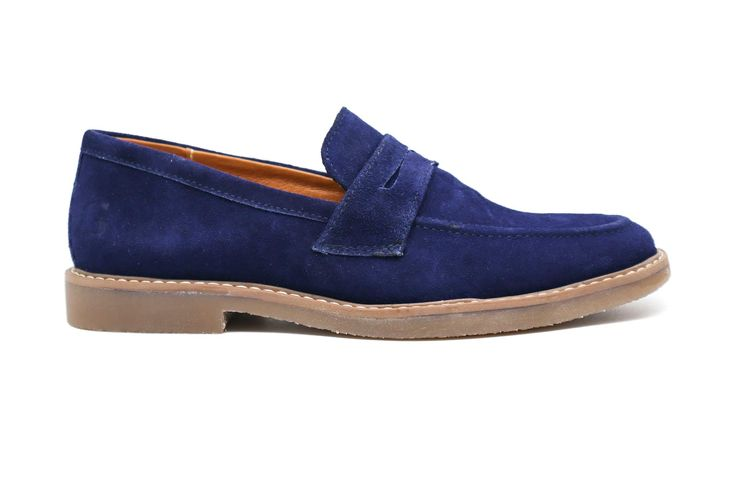gamuza: (68, 106, 657, 306)
